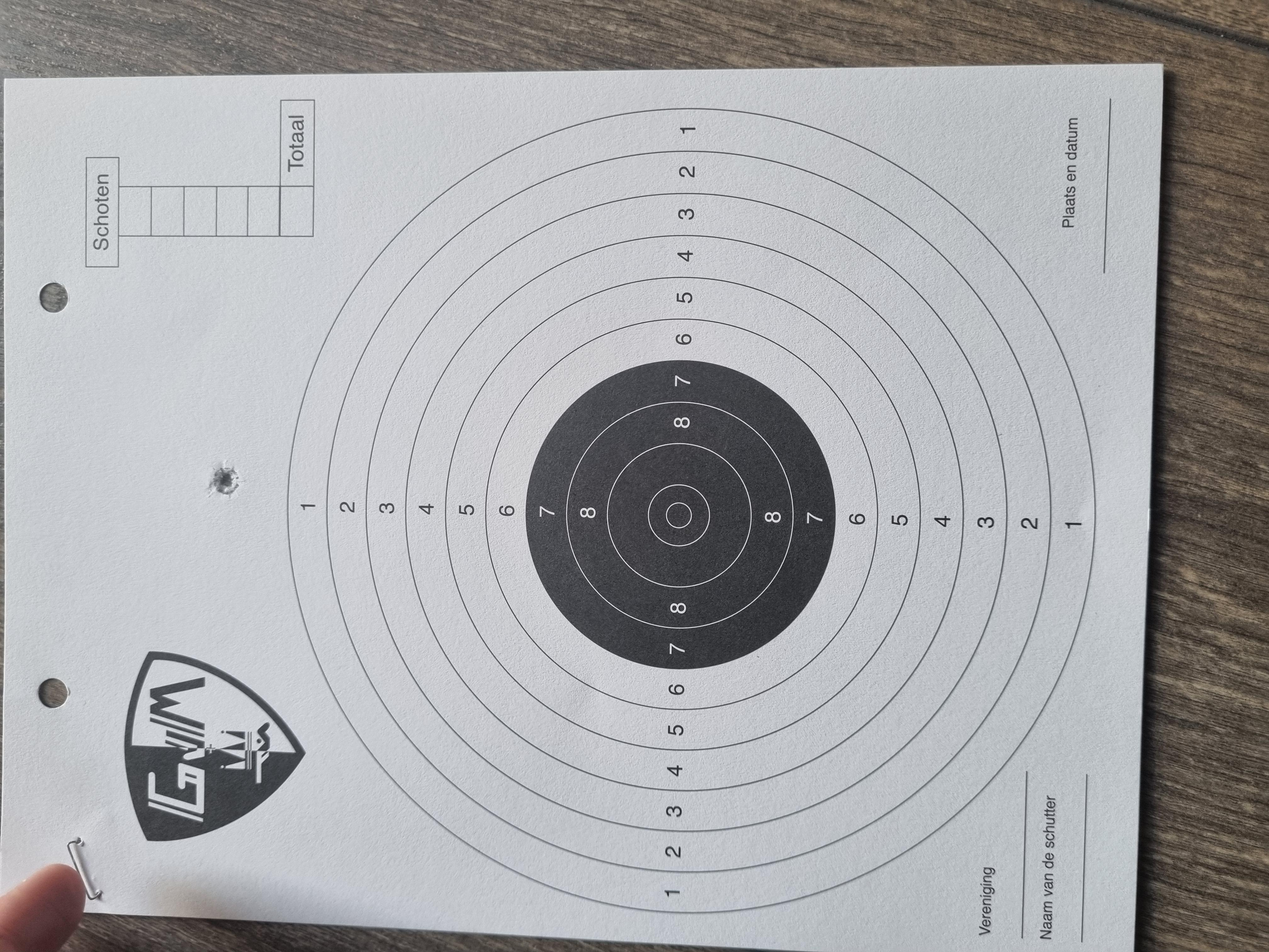hole: (607, 156, 649, 183)
